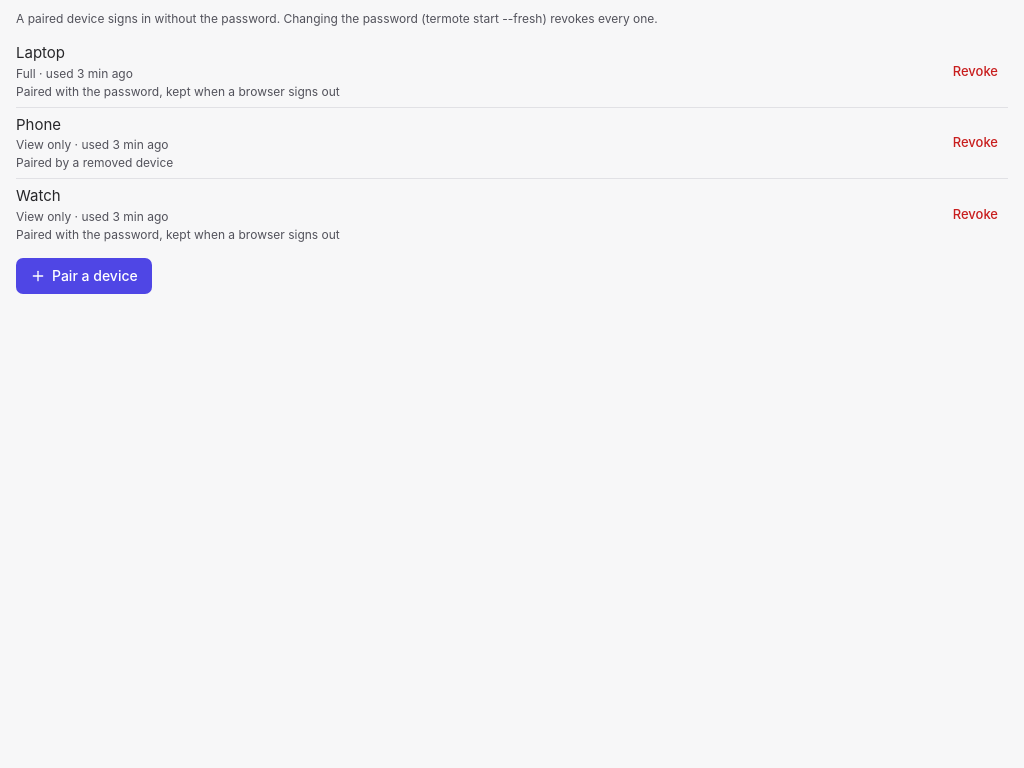
Test: DevicesSection › warns that a revoke takes the devices it paired, and a full device needs --fresh
Click the button with aria-label "Revoke Laptop": (975, 71) [943,55,1008,87]
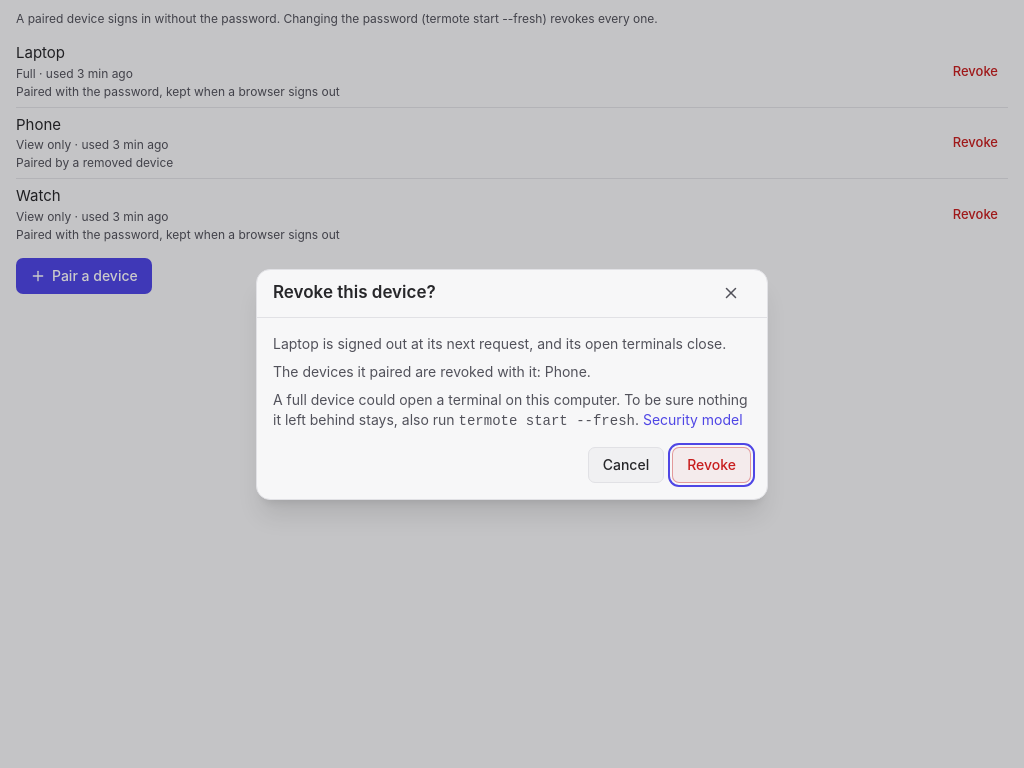
Expected: the text "The devices it paired are revoked with it: Phone." is shown, [273,362,591,380]
Expected: the text "termote start --fresh" is shown, [458,412,635,428]
Click the button "Revoke": (712, 464) [672,446,751,482]
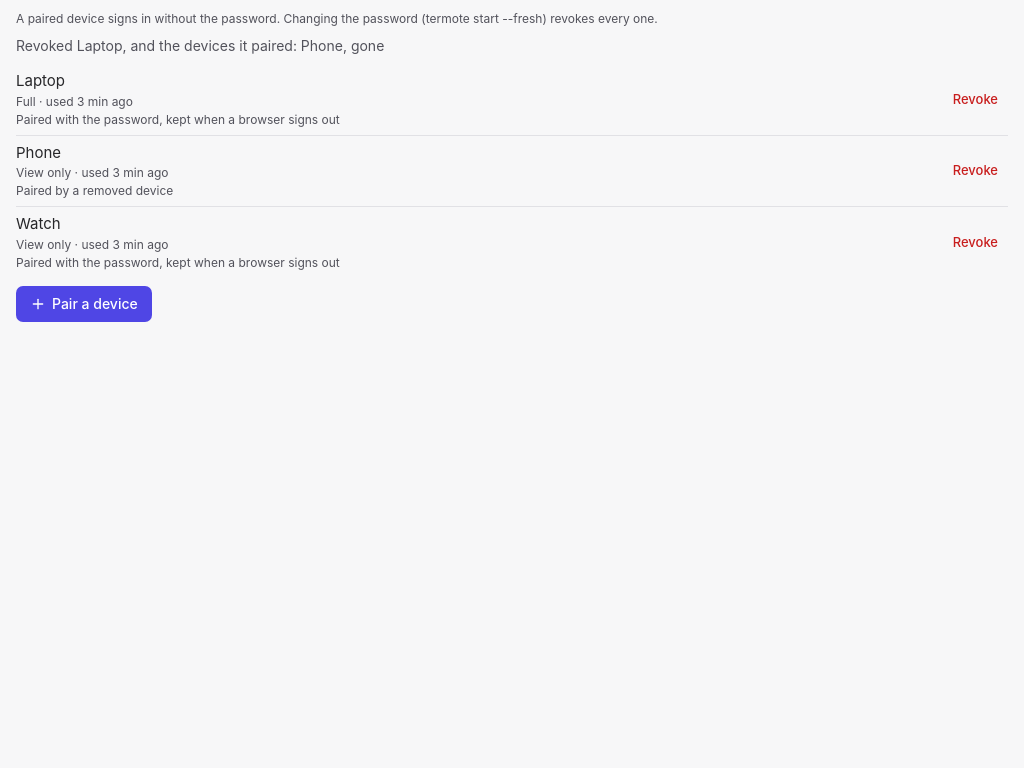
Expected: the message reads "Revoked Laptop, and the devices it paired: Phone, gone", [16,37,384,54]
